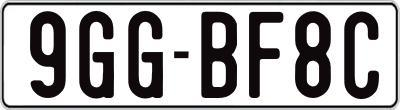8: (295, 11, 331, 103)
9: (27, 10, 67, 101)
B: (198, 10, 237, 96)
C: (342, 11, 381, 99)
F: (248, 12, 287, 101)
G: (79, 11, 116, 98), (127, 8, 163, 95)
